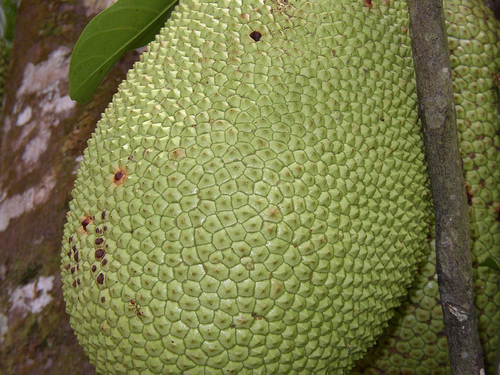jackfruit: (60, 0, 434, 374), (368, 0, 499, 374)
